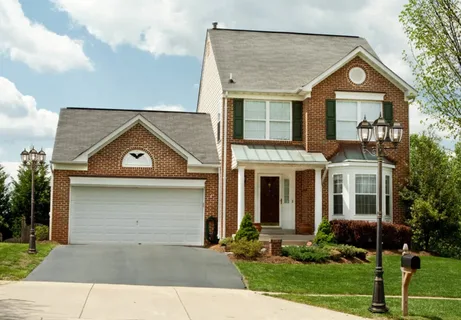private_hause: (196, 27, 411, 247)
